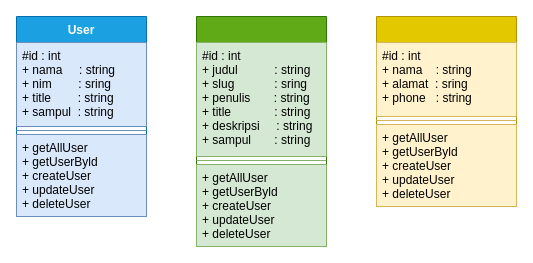
This 533x263 diagram has some shape labels left out. Here are the shapes that lost their labels. From the top down, the box of each, then its label:
(196, 16, 326, 246): Article
(376, 16, 516, 206): Buku
